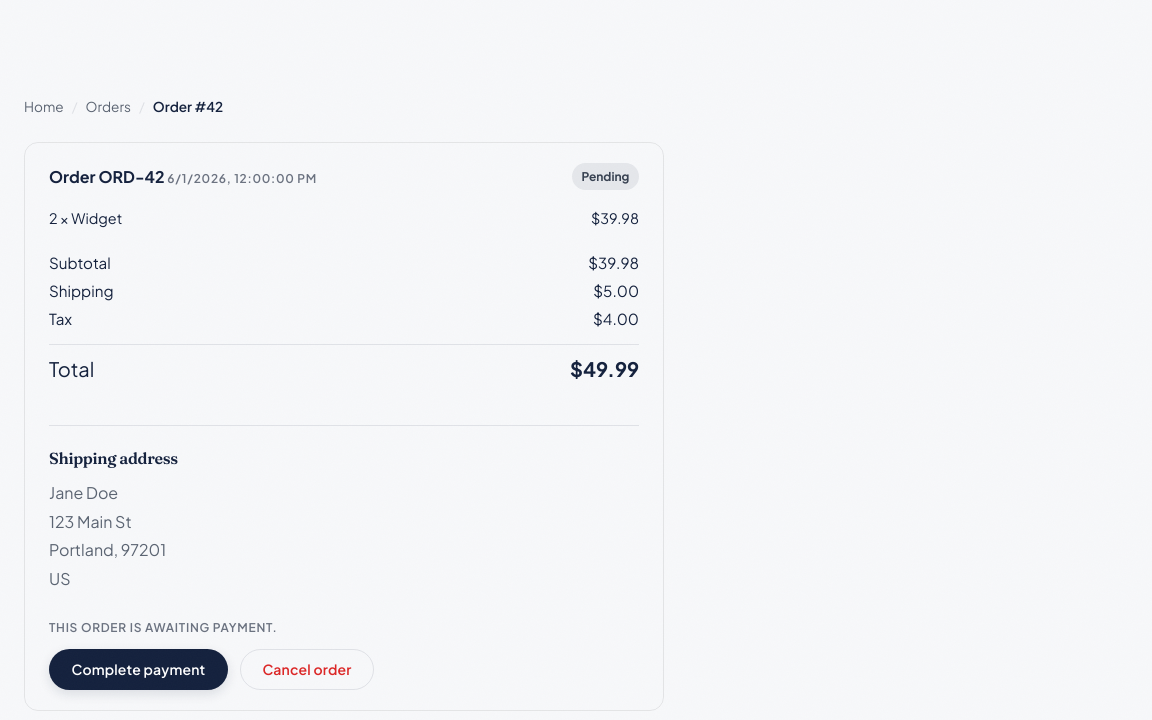
OrderDetailPage › opens confirm dialog before cancelling
Expected: the text "Order ORD-42" is shown, [49, 166, 164, 186]
Click the button "Cancel order" at coordinates (307, 670), box [240, 649, 374, 690]
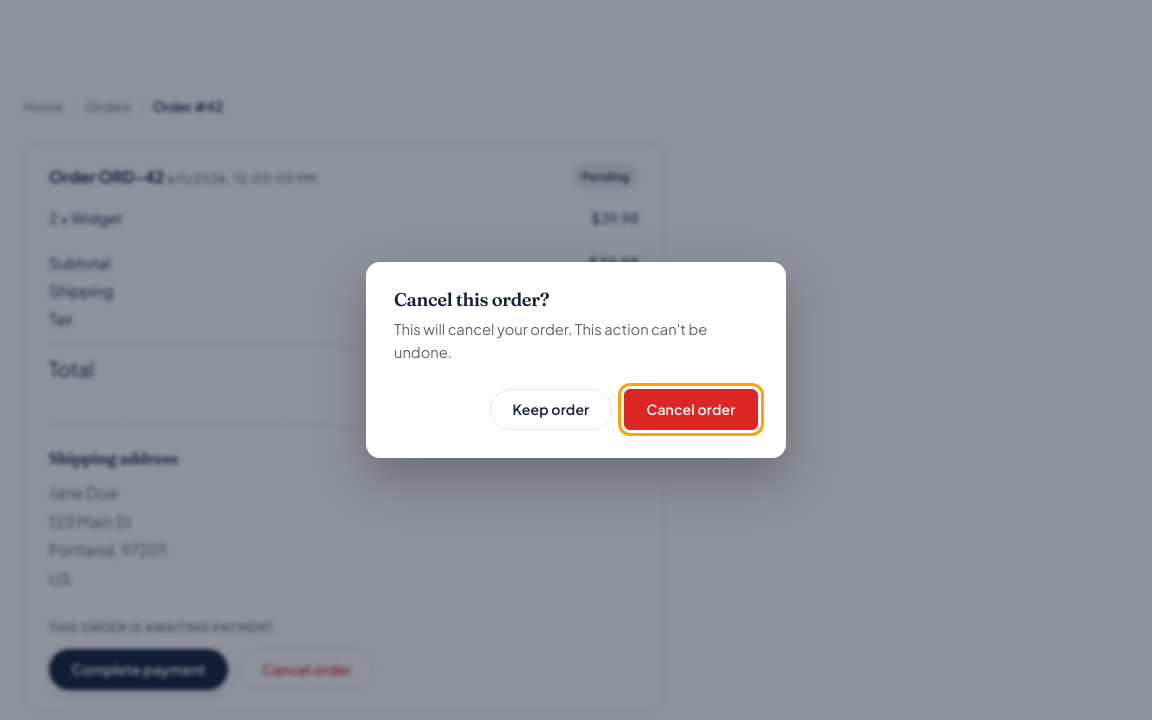
Now the heading "Cancel this order?" is shown, box [394, 288, 549, 311]
